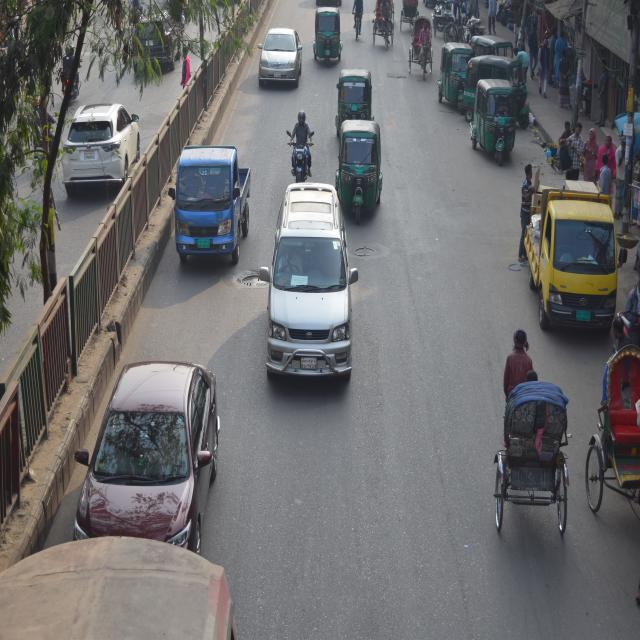car: (75, 336, 232, 539), (262, 181, 356, 401), (63, 90, 146, 198), (257, 22, 312, 86)
motorbike: (282, 116, 314, 194)
pickup-van: (514, 178, 624, 340)
